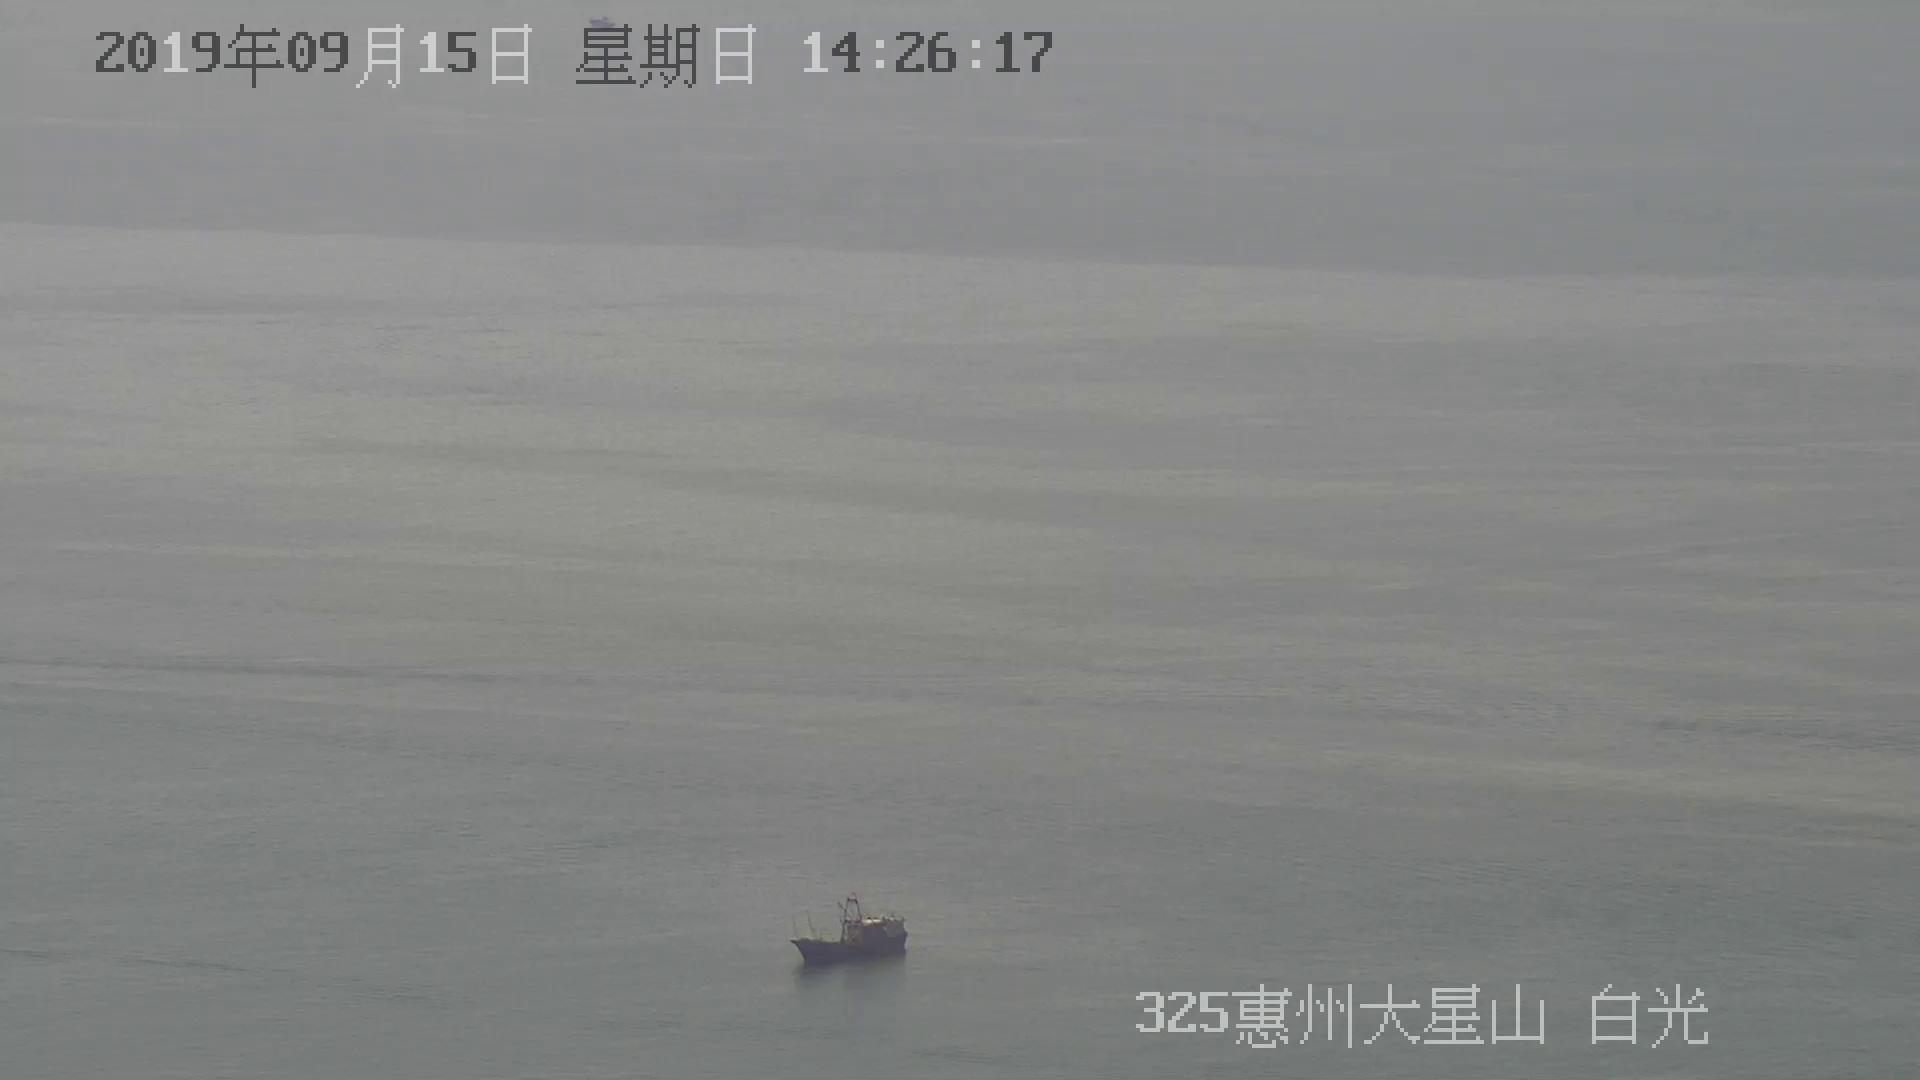ship: (789, 891, 910, 963)
